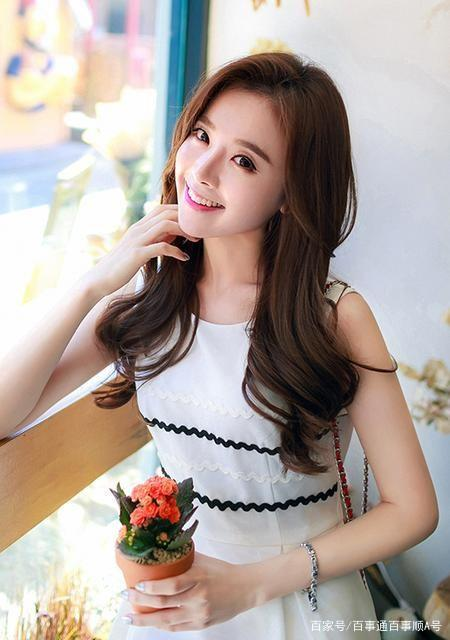person: (38, 56, 435, 538)
